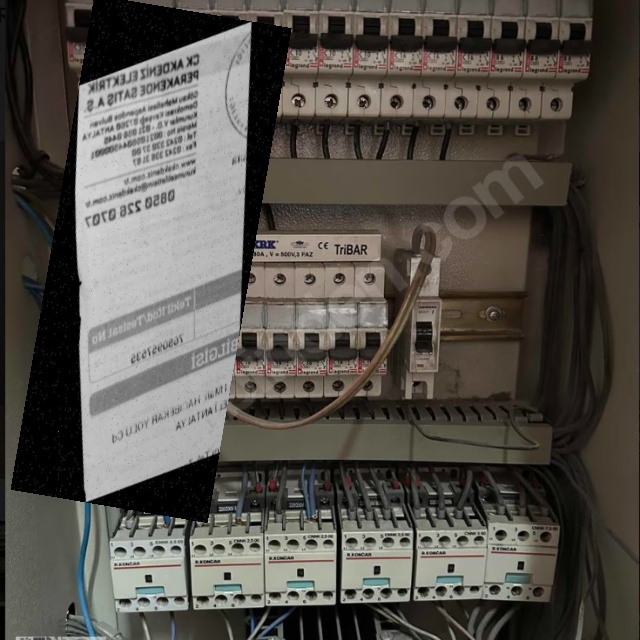electricity-bill: (10, 0, 291, 523)
